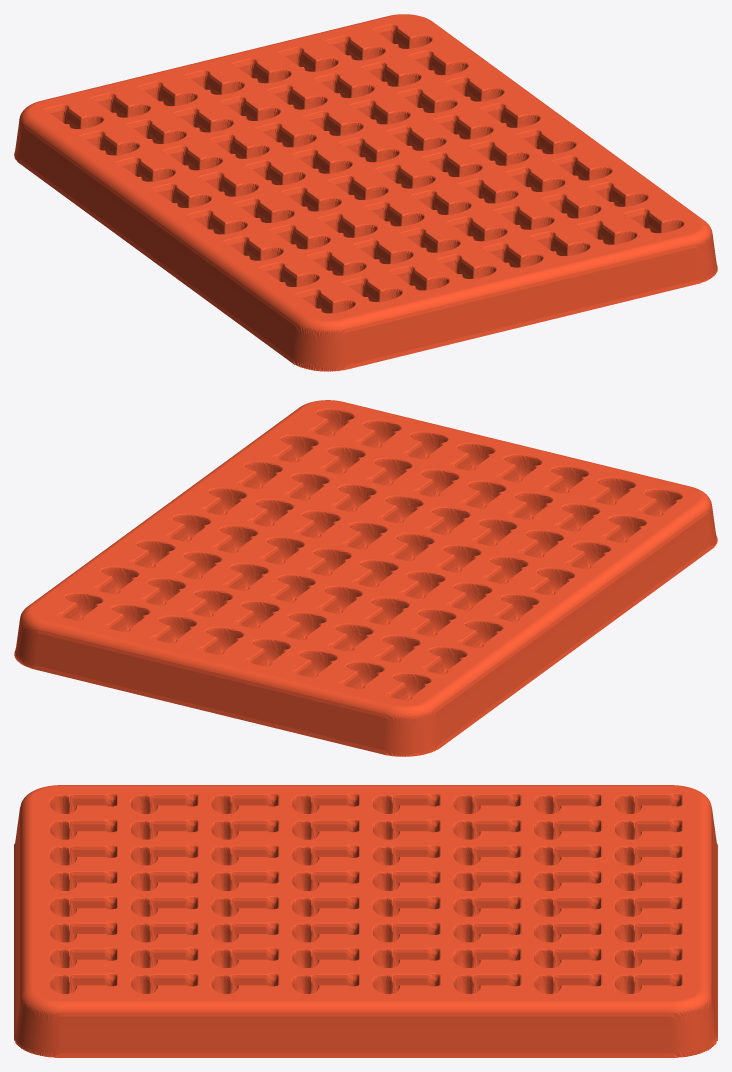
Rendered from mold.glb.
The picture shows the model from 3 angles, top to bottom: view 1: azimuth 30°, elevation 25°; view 2: azimuth 150°, elevation 25°; view 3: azimuth 270°, elevation 25°; orthographic projection. The views are drawn at different scales.
Visible parts, largest first — view 1: geometry_0; view 2: geometry_0; view 3: geometry_0.
Part boxes in pixels (x1,y1,x2,y2): geometry_0: (14,14,717,371); geometry_0: (14,400,717,756); geometry_0: (14,785,717,1057).
Size of the model in its own units: 0.1049 by 0.0105 by 0.1355.
